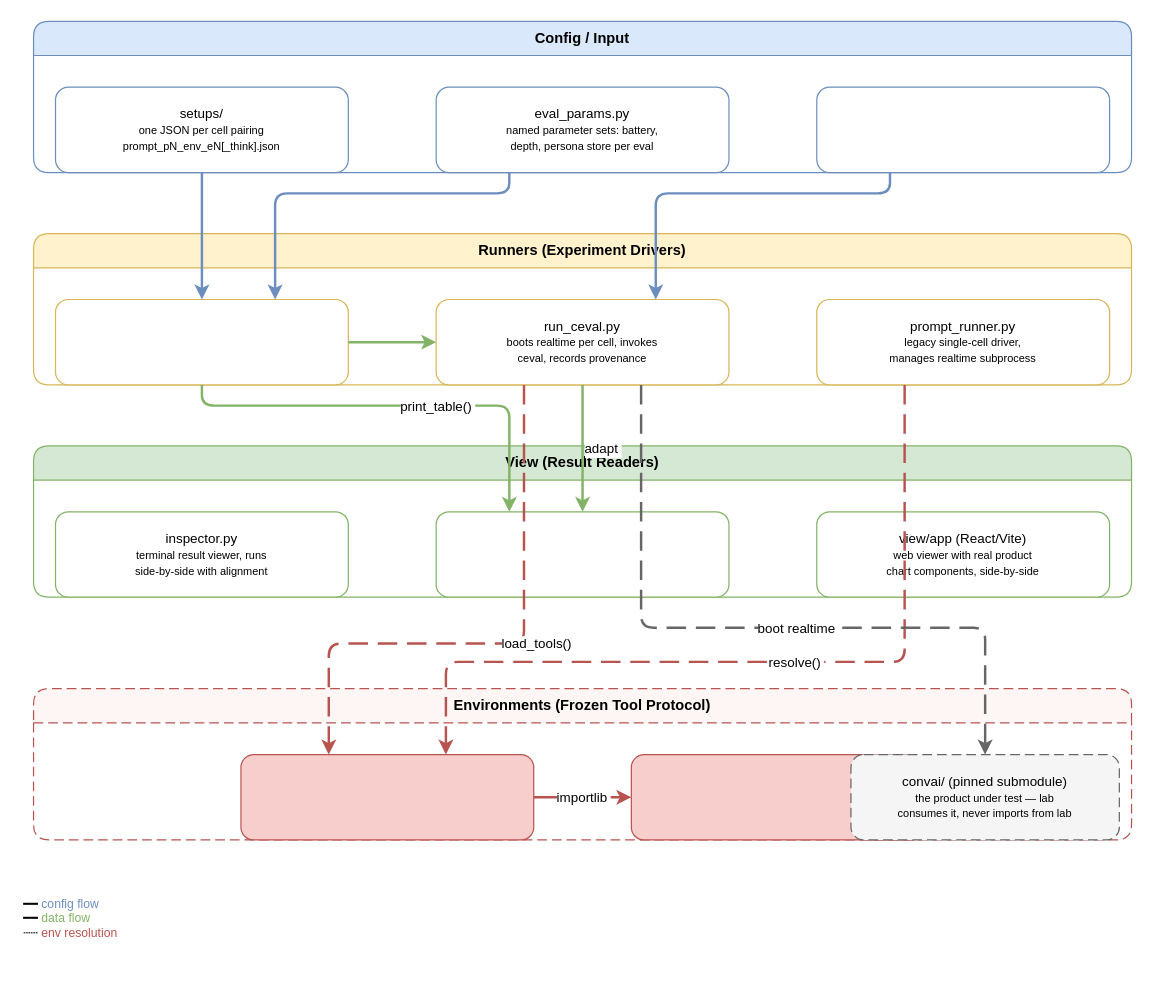
This 1153x983 diagram has some shape labels left out. Here are the shapes that lost their labels. From the top down, the centre of each, then its label:
the point at 963,129: prompt_arms/ (p0–p11) frozen system prompt snapshots, composed from sections/
the point at 201,341: sweep.py eval_params × cells matrix driver, sequential cell execution
the point at 582,554: ceval_table.py metric vector per cell, printed by sweep between pairings
the point at 387,796: registry.py resolves env name → loads frozen ToolSpec + logic + manifest
the point at 777,796: frozen arms (e0–e15) 15 tool snapshots: schemas, logic, manifest per arm
